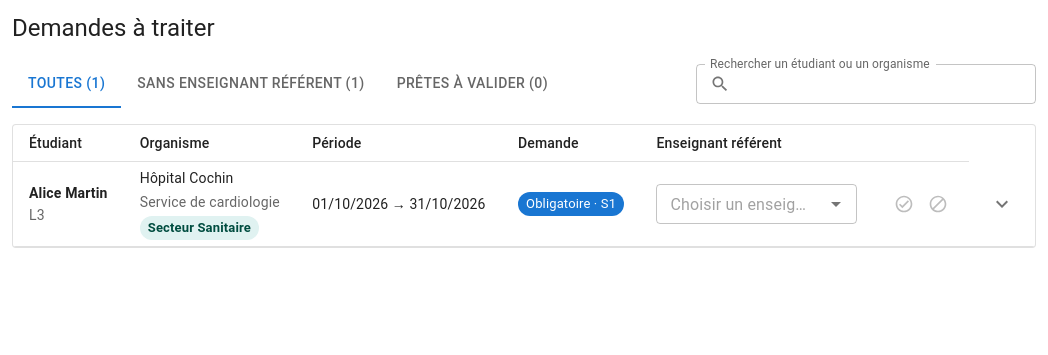
Test: StageRequestsPage — issue #146 › inline referent picker — issue #148 › shows an error when the assignment fails
Click the dropdown.
click(740, 204)  # box [662,190,818,218]
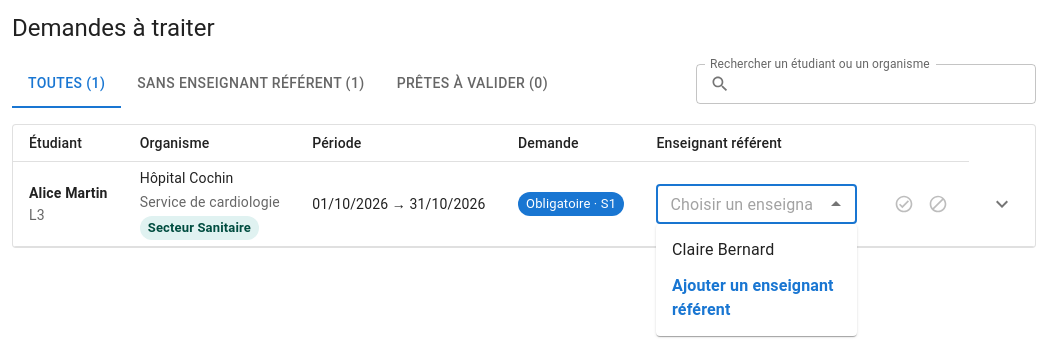
Click the option "Claire Bernard".
click(723, 250)  # box [672,240,774,259]
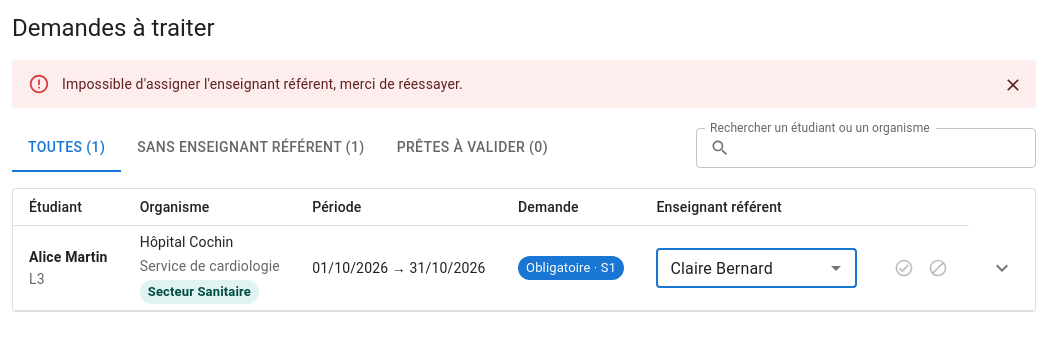
Expected: the text "Impossible d'assigner l'enseignant référent, merci de réessayer." is shown, [62,76,463,92]
